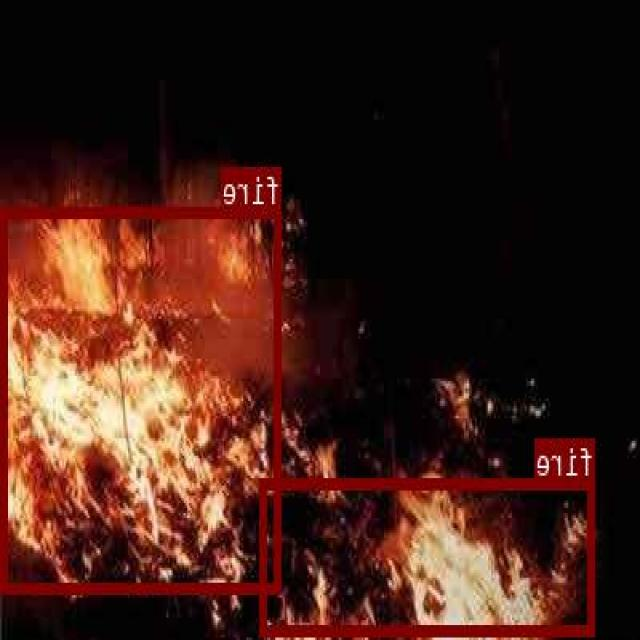fire: (3, 206, 283, 590), (261, 476, 595, 635)
